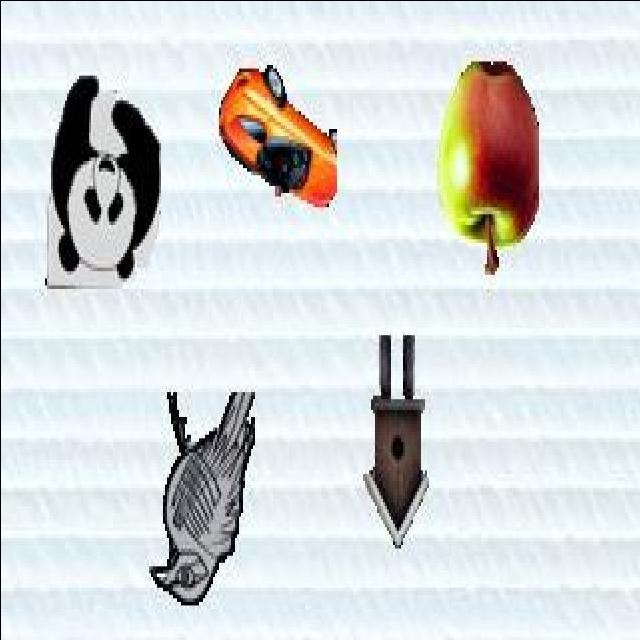Other Objects: (148, 388, 256, 608), (436, 59, 540, 276)
